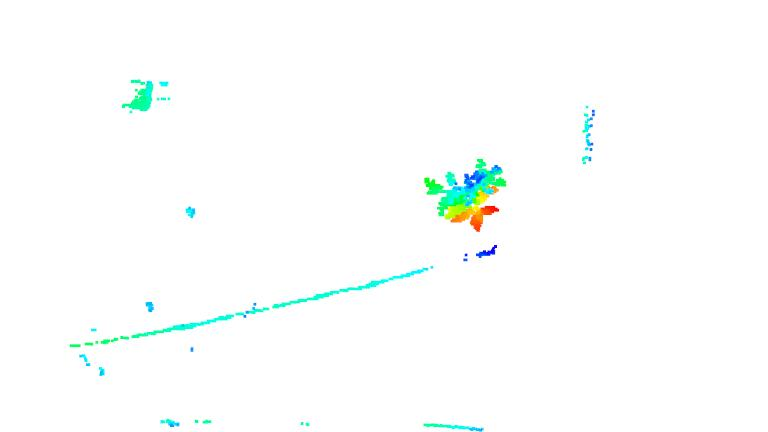chickpea: (422, 159, 508, 233)
